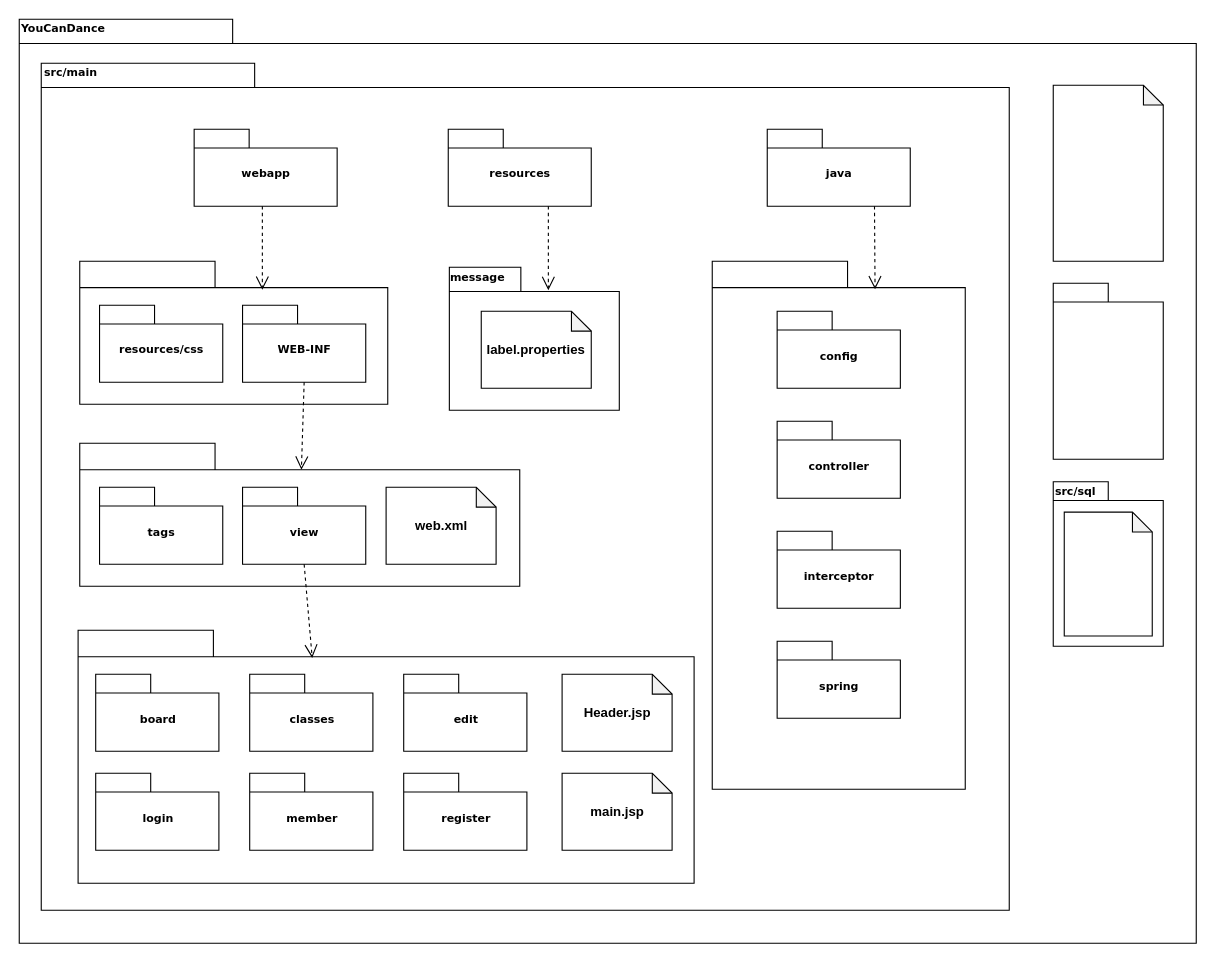
The diagram is 1216 pixels wide and 963 high, and some of its shapes have lost their labels. The centre of each missing label's shape, as x and y in pixels:
"ddl.sql" goes at (1107,573).
"diagram" goes at (1107,370).
"pom.xml" goes at (1107,172).
